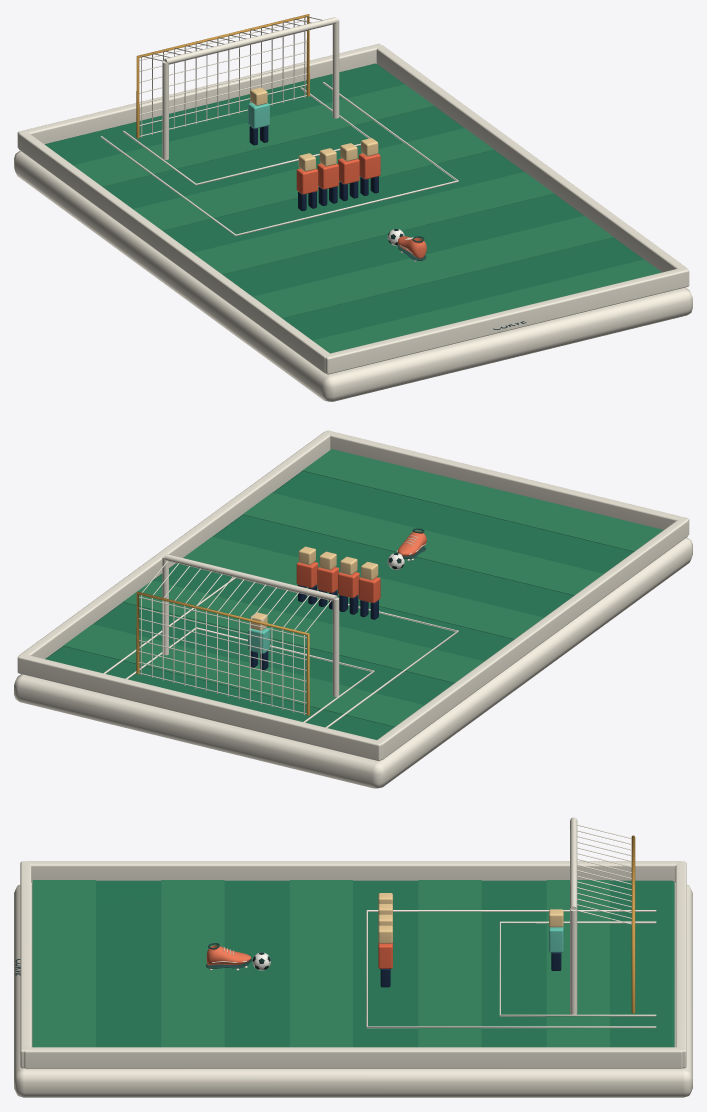
File: A-free-kick.glb
3 renders of one model, top to bottom at view 1: azimuth 30°, elevation 25°; view 2: azimuth 150°, elevation 25°; view 3: azimuth 270°, elevation 25°, orthographic. The views are drawn at different scales.
Parts seen in each view (by area): view 1: Pitch / playable surface, Field / solid tray, Grass stripe 4, Grass stripe 2, Grass stripe 8, Return end rail, Side catch rail, Grass stripe 6, Side catch rail.001, Return end rail.001, Grass stripe 0, Penalty box (+5 smaller); view 2: Pitch / playable surface, Field / solid tray, Grass stripe 0, Grass stripe 2, Grass stripe 8, Grass stripe 6, Return end rail.001, Side catch rail, Grass stripe 4, Side catch rail.001, Return end rail, Goal crossbar (+5 smaller); view 3: Pitch / playable surface, Field / solid tray, Side catch rail.001, Side catch rail, Grass stripe 0, Grass stripe 4, Grass stripe 6, Grass stripe 2, Grass stripe 8, Return end rail, Return end rail.001, Penalty box (+5 smaller).
Boxes of the visible parts, x1=… form: Pitch / playable surface: x1=45, y1=63, x2=643, y2=340; Field / solid tray: x1=14, y1=151, x2=692, y2=401; Grass stripe 4: x1=193, y1=172, x2=554, y2=274; Grass stripe 2: x1=253, y1=215, x2=613, y2=318; Grass stripe 8: x1=73, y1=84, x2=434, y2=186; Return end rail: x1=325, y1=267, x2=689, y2=374; Side catch rail: x1=18, y1=132, x2=330, y2=373; Grass stripe 6: x1=133, y1=128, x2=494, y2=230; Side catch rail.001: x1=376, y1=45, x2=687, y2=272; Return end rail.001: x1=17, y1=43, x2=381, y2=148; Grass stripe 0: x1=312, y1=259, x2=661, y2=353; Penalty box: x1=100, y1=82, x2=458, y2=236; Pitch / playable surface: x1=45, y1=471, x2=633, y2=739; Field / solid tray: x1=14, y1=537, x2=692, y2=788; Grass stripe 0: x1=302, y1=449, x2=663, y2=551; Grass stripe 2: x1=242, y1=493, x2=603, y2=595; Grass stripe 8: x1=63, y1=624, x2=424, y2=726; Grass stripe 6: x1=123, y1=580, x2=483, y2=683; Return end rail.001: x1=17, y1=654, x2=381, y2=761; Side catch rail: x1=377, y1=519, x2=688, y2=759; Grass stripe 4: x1=183, y1=536, x2=543, y2=639; Side catch rail.001: x1=19, y1=431, x2=330, y2=658; Return end rail: x1=325, y1=430, x2=689, y2=534; Goal crossbar: x1=164, y1=554, x2=337, y2=601; Pitch / playable surface: x1=32, y1=880, x2=674, y2=1047; Field / solid tray: x1=14, y1=883, x2=692, y2=1097; Side catch rail.001: x1=24, y1=1047, x2=682, y2=1068; Side catch rail: x1=25, y1=861, x2=681, y2=882; Grass stripe 0: x1=32, y1=880, x2=95, y2=1047; Grass stripe 4: x1=289, y1=880, x2=352, y2=1047; Grass stripe 6: x1=418, y1=880, x2=481, y2=1047; Grass stripe 2: x1=161, y1=880, x2=224, y2=1047; Grass stripe 8: x1=546, y1=880, x2=609, y2=1047; Return end rail: x1=20, y1=861, x2=31, y2=1068; Return end rail.001: x1=675, y1=861, x2=686, y2=1068; Penalty box: x1=366, y1=910, x2=656, y2=1028.
Size of the model in its own units: 0.5 by 0.172 by 0.74.
